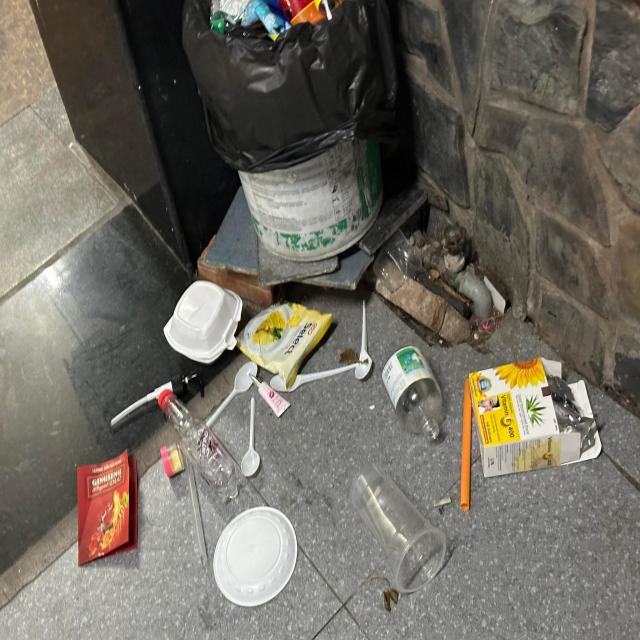bottle: (158, 390, 238, 498), (381, 345, 443, 443)
cardboard box: (469, 356, 602, 477)
drinking straw: (185, 454, 207, 566), (460, 379, 472, 512)
foam box: (164, 280, 244, 364)
paper: (77, 448, 138, 567)
plastic glass: (351, 463, 446, 593), (373, 228, 422, 292)
plastic holder: (212, 507, 298, 608), (160, 442, 185, 478)
plastic utensil: (206, 362, 258, 426), (270, 362, 359, 392), (240, 397, 260, 477), (355, 299, 373, 380)
snack package: (236, 297, 334, 390)
trash bag: (181, 0, 400, 173)
